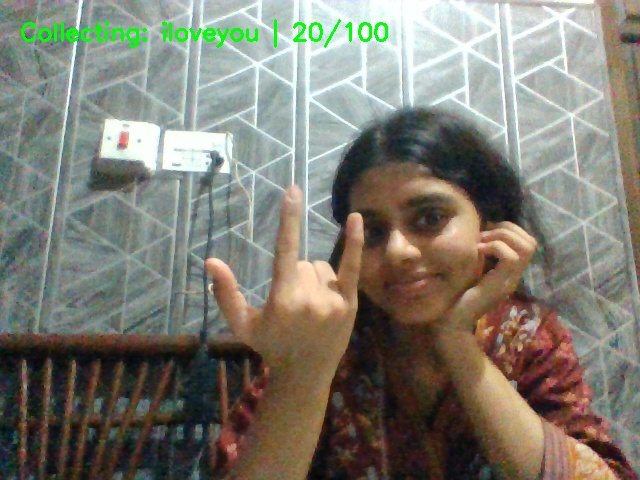iloveyou: (198, 175, 379, 385)
